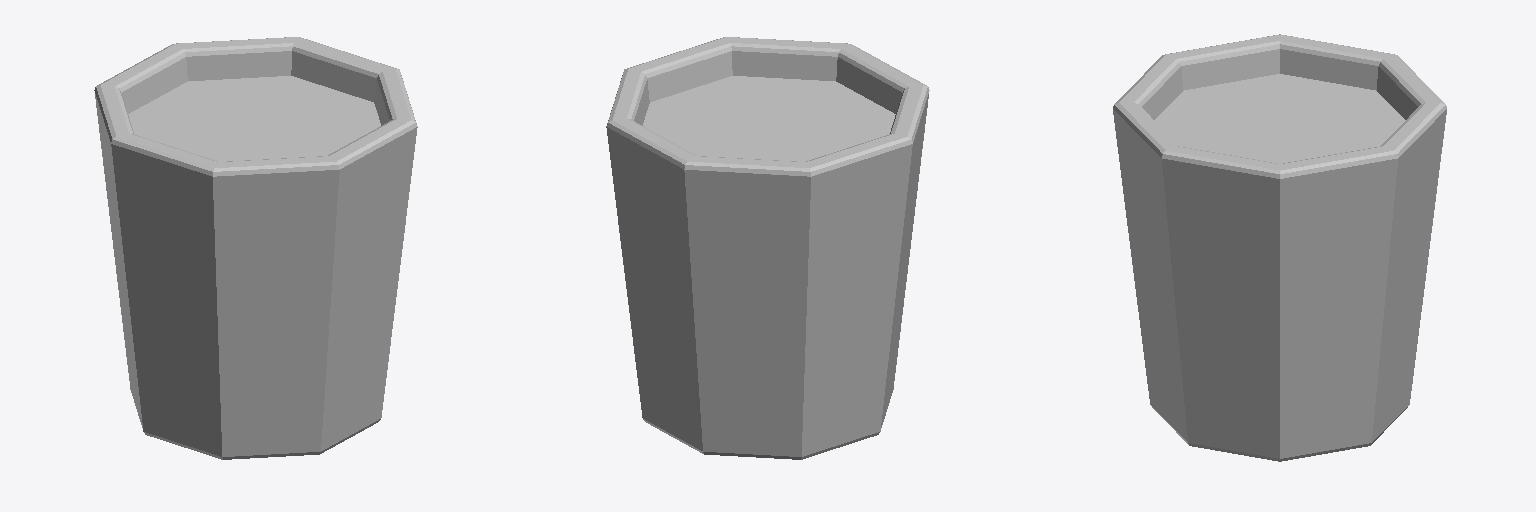
Rendered from Pot + tanah(1).obj.
The picture shows the model from 3 angles: view 1: azimuth 30°, elevation 25°; view 2: azimuth 150°, elevation 25°; view 3: azimuth 270°, elevation 25°; orthographic projection.
Parts seen in each view (by area): view 1: pCylinder1, pCylinder8; view 2: pCylinder1, pCylinder8; view 3: pCylinder1, pCylinder8.
Part boxes in pixels (left/top/right/bottom): pCylinder1: left=94, top=37, right=417, bottom=459; pCylinder8: left=128, top=76, right=380, bottom=161; pCylinder1: left=606, top=37, right=929, bottom=459; pCylinder8: left=643, top=76, right=895, bottom=161; pCylinder1: left=1113, top=34, right=1446, bottom=461; pCylinder8: left=1154, top=74, right=1405, bottom=163.
Size of the model in its own units: 0.9392 by 0.9501 by 0.9392.